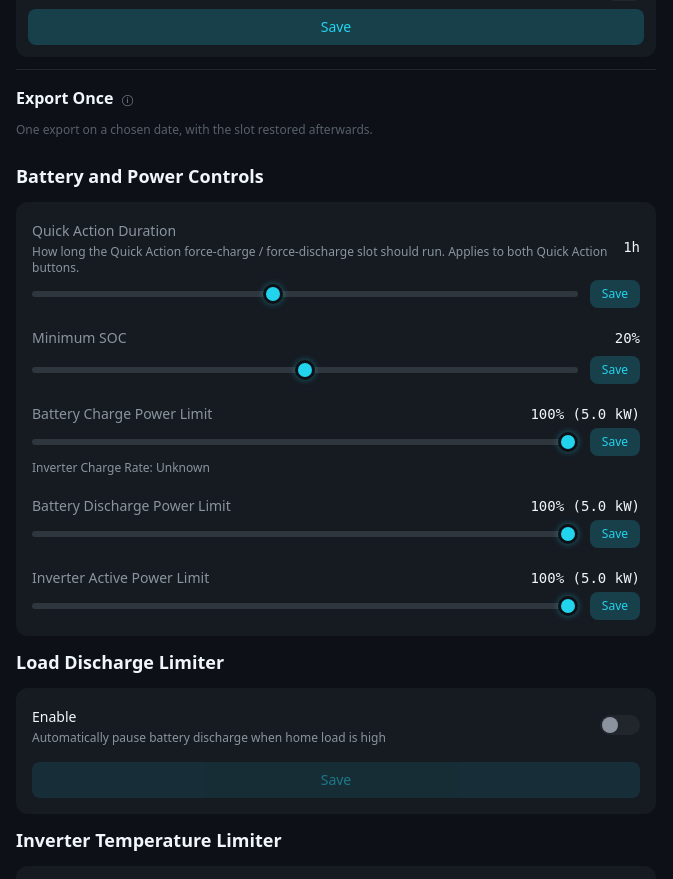
Test case: <ControlPage/> — power-control save failures surface and reconcile › shows an error and reverts the Charge Power Limit slider when the save fails
This screenshot has width=673, height=879.
(page scrolled)
Set the slider below "Battery Charge Power Limit" to "30" at (199, 442), box [32,430,578,454]
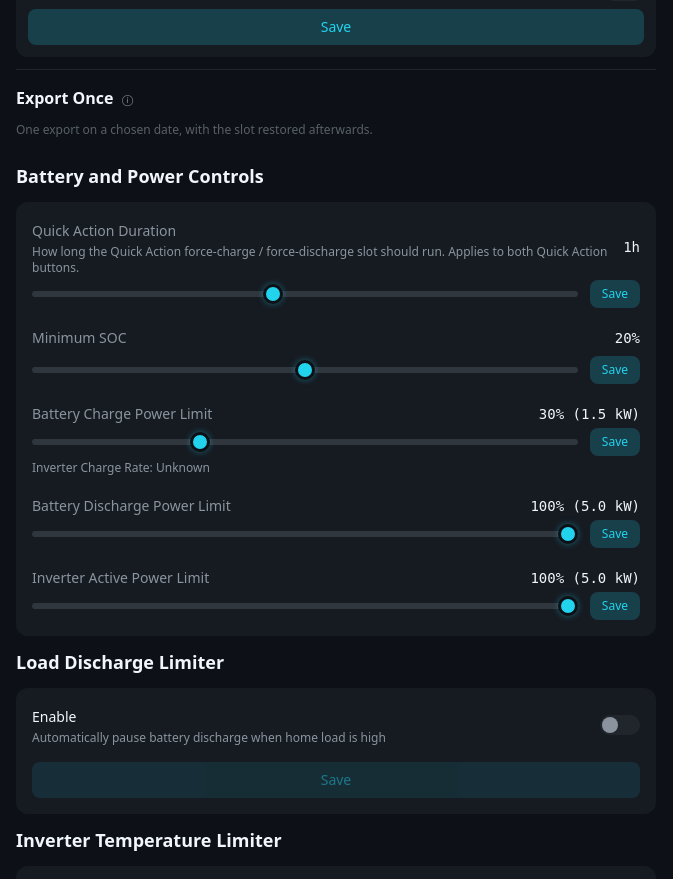
Click the button "Save" below "30% (1.5 kW)" at (615, 442), box [590,428,640,456]
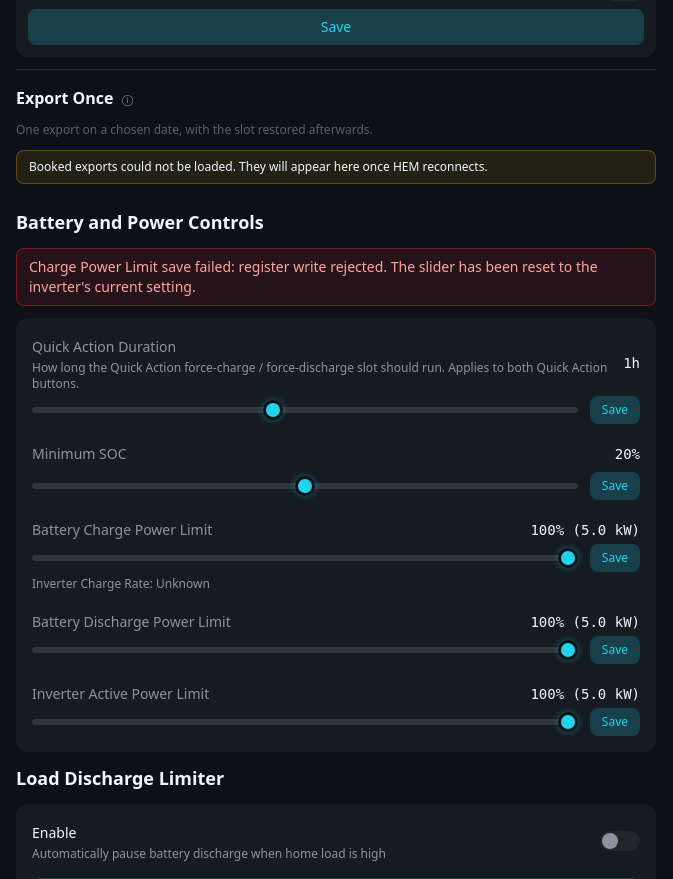
Expected: the 2nd message shows "Charge Power Limit save failed", [29,257,598,296]
Expected: the slider below "Battery Charge Power Limit" holds "100", [32,546,578,570]
